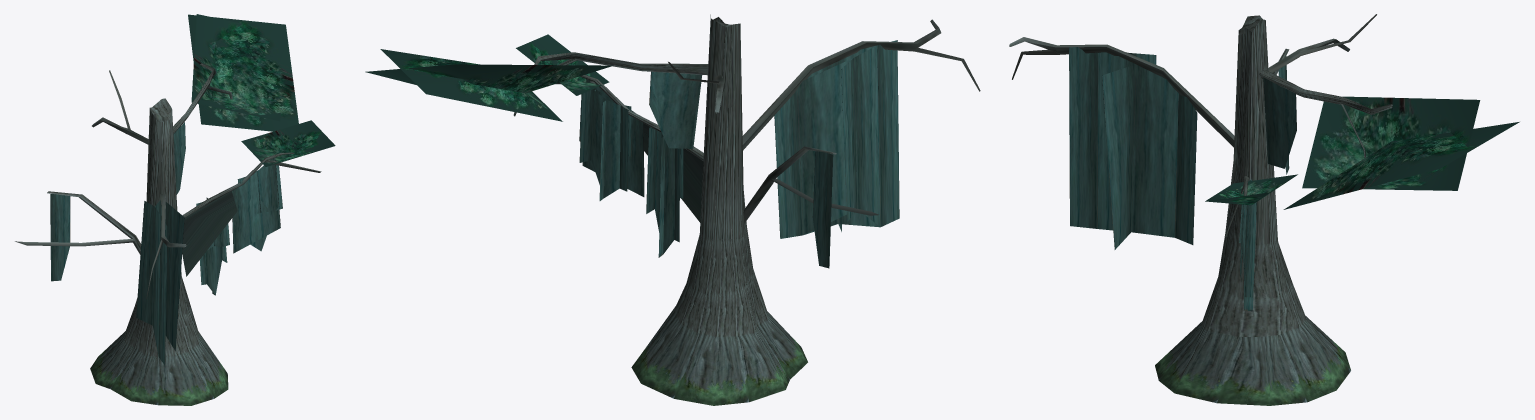
Rendered from swamp_tree_b.fbx.
The picture shows the model from 3 angles, left to right: view 1: azimuth 30°, elevation 25°; view 2: azimuth 150°, elevation 25°; view 3: azimuth 270°, elevation 25°; orthographic projection. The views are drawn at different scales.
Parts seen in each view (by area): view 1: trunk, leaves_21, moss_11, moss_2, leaves_20, leaves_23, moss_6, moss_9, branch_3, branch_1, moss_12, branch_5 (+3 smaller); view 2: trunk, moss_11, moss_1, leaves_21, leaves_20, moss_9, moss_12, moss_2, branch_6, moss_6, branch_5, leaves_23 (+2 smaller); view 3: trunk, moss_11, leaves_20, leaves_21, moss_12, branch_6, leaves_23, moss_1, branch_5, branch_7.
Boxes of the visible parts, x1,y1,x2,y2 form: trunk: (90,98,228,405); leaves_21: (188,14,298,131); moss_11: (136,200,184,365); moss_2: (182,158,280,276); leaves_20: (191,14,280,121); leaves_23: (241,120,335,166); moss_6: (50,194,70,281); moss_9: (196,197,229,295); branch_3: (15,191,141,254); branch_1: (182,152,321,217); moss_12: (173,122,185,194); branch_5: (173,63,232,133); trunk: (631,14,807,405); moss_11: (774,40,899,238); moss_1: (579,88,631,200); leaves_21: (380,49,562,121); leaves_20: (365,64,613,93); moss_9: (646,126,683,257); moss_12: (649,71,702,148); moss_2: (582,75,703,222); branch_6: (742,19,980,150); moss_6: (812,151,833,268); branch_5: (513,52,708,116); leaves_23: (516,34,609,95); trunk: (1155,15,1350,405); moss_11: (1069,47,1197,249); leaves_20: (1302,96,1480,190); leaves_21: (1283,122,1519,209); moss_12: (1263,77,1296,168); branch_6: (1009,37,1234,147); leaves_23: (1205,174,1297,205); moss_1: (1239,202,1256,297); branch_5: (1258,70,1392,157); branch_7: (1268,14,1376,72).
Bounding box in the file's own units: 9357 × 7282 × 9484.
Materials: 2 (2 with a texture image).
